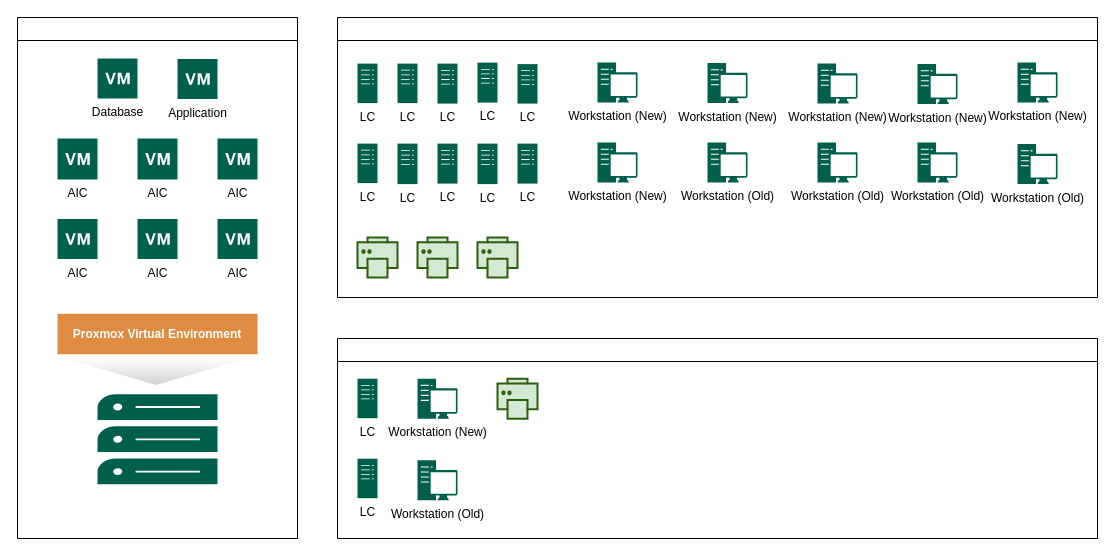
The diagram is 1115 pixels wide and 556 high, and some of its shapes have lost their labels. Here are the shapes that lost their labels. From the top down, the box of each, then its label:
(336, 16, 1098, 298): R&D
(16, 16, 298, 538): QC Proxmox Farm
(336, 338, 1098, 538): QC
